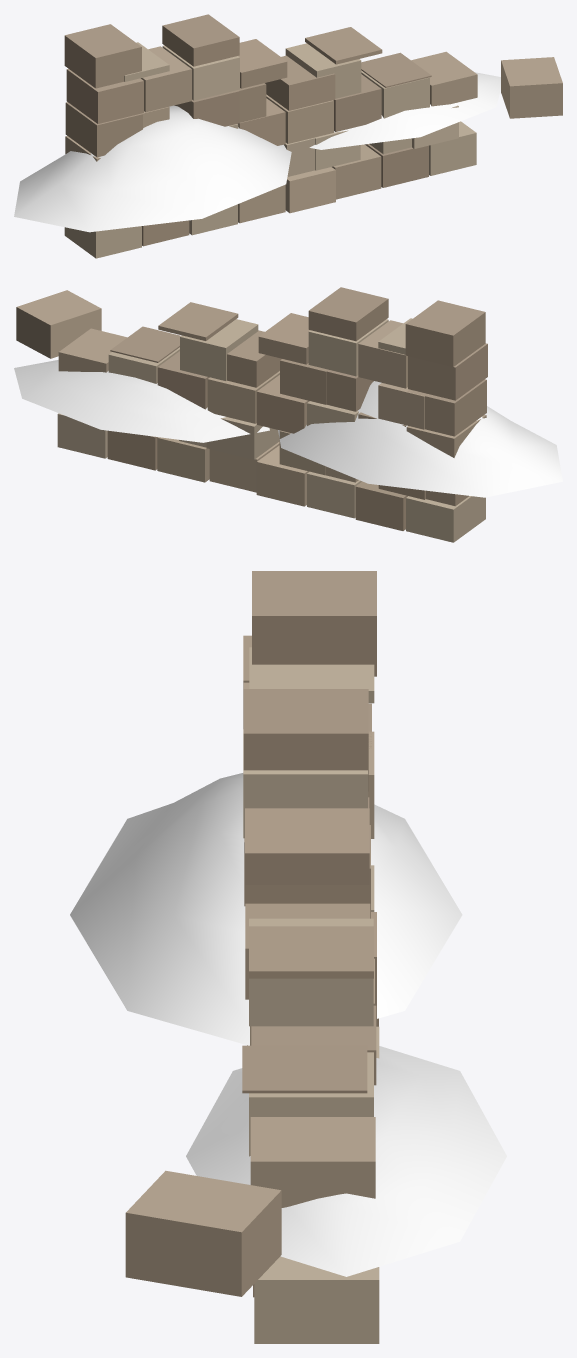
Rendered from ruinas_muro_ligero.glb.
The picture shows the model from 3 angles, top to bottom: view 1: azimuth 30°, elevation 25°; view 2: azimuth 150°, elevation 25°; view 3: azimuth 270°, elevation 25°; orthographic projection. The views are drawn at different scales.
Parts seen in each view (by area): view 1: ruinas_muro, ruinas_muro_arena; view 2: ruinas_muro, ruinas_muro_arena; view 3: ruinas_muro, ruinas_muro_arena.
Part boxes in pixels (box(x1,y1,x2,y2)): ruinas_muro: box(64, 14, 562, 258); ruinas_muro_arena: box(14, 72, 500, 232); ruinas_muro: box(16, 287, 487, 542); ruinas_muro_arena: box(14, 360, 562, 497); ruinas_muro: box(125, 571, 379, 1343); ruinas_muro_arena: box(70, 773, 506, 1276).
Size of the model in its own units: 6.91 by 2.48 by 2.45.
